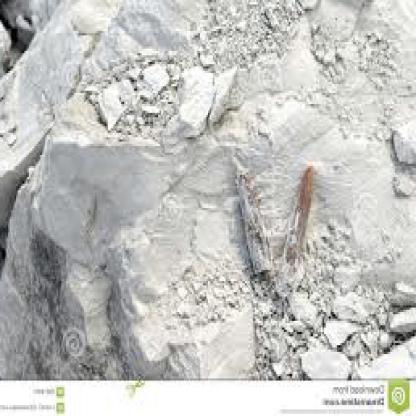Sedimentary_Chalk: (23, 113, 195, 252), (113, 292, 259, 374), (168, 60, 221, 135), (293, 334, 366, 374), (387, 121, 415, 180)
